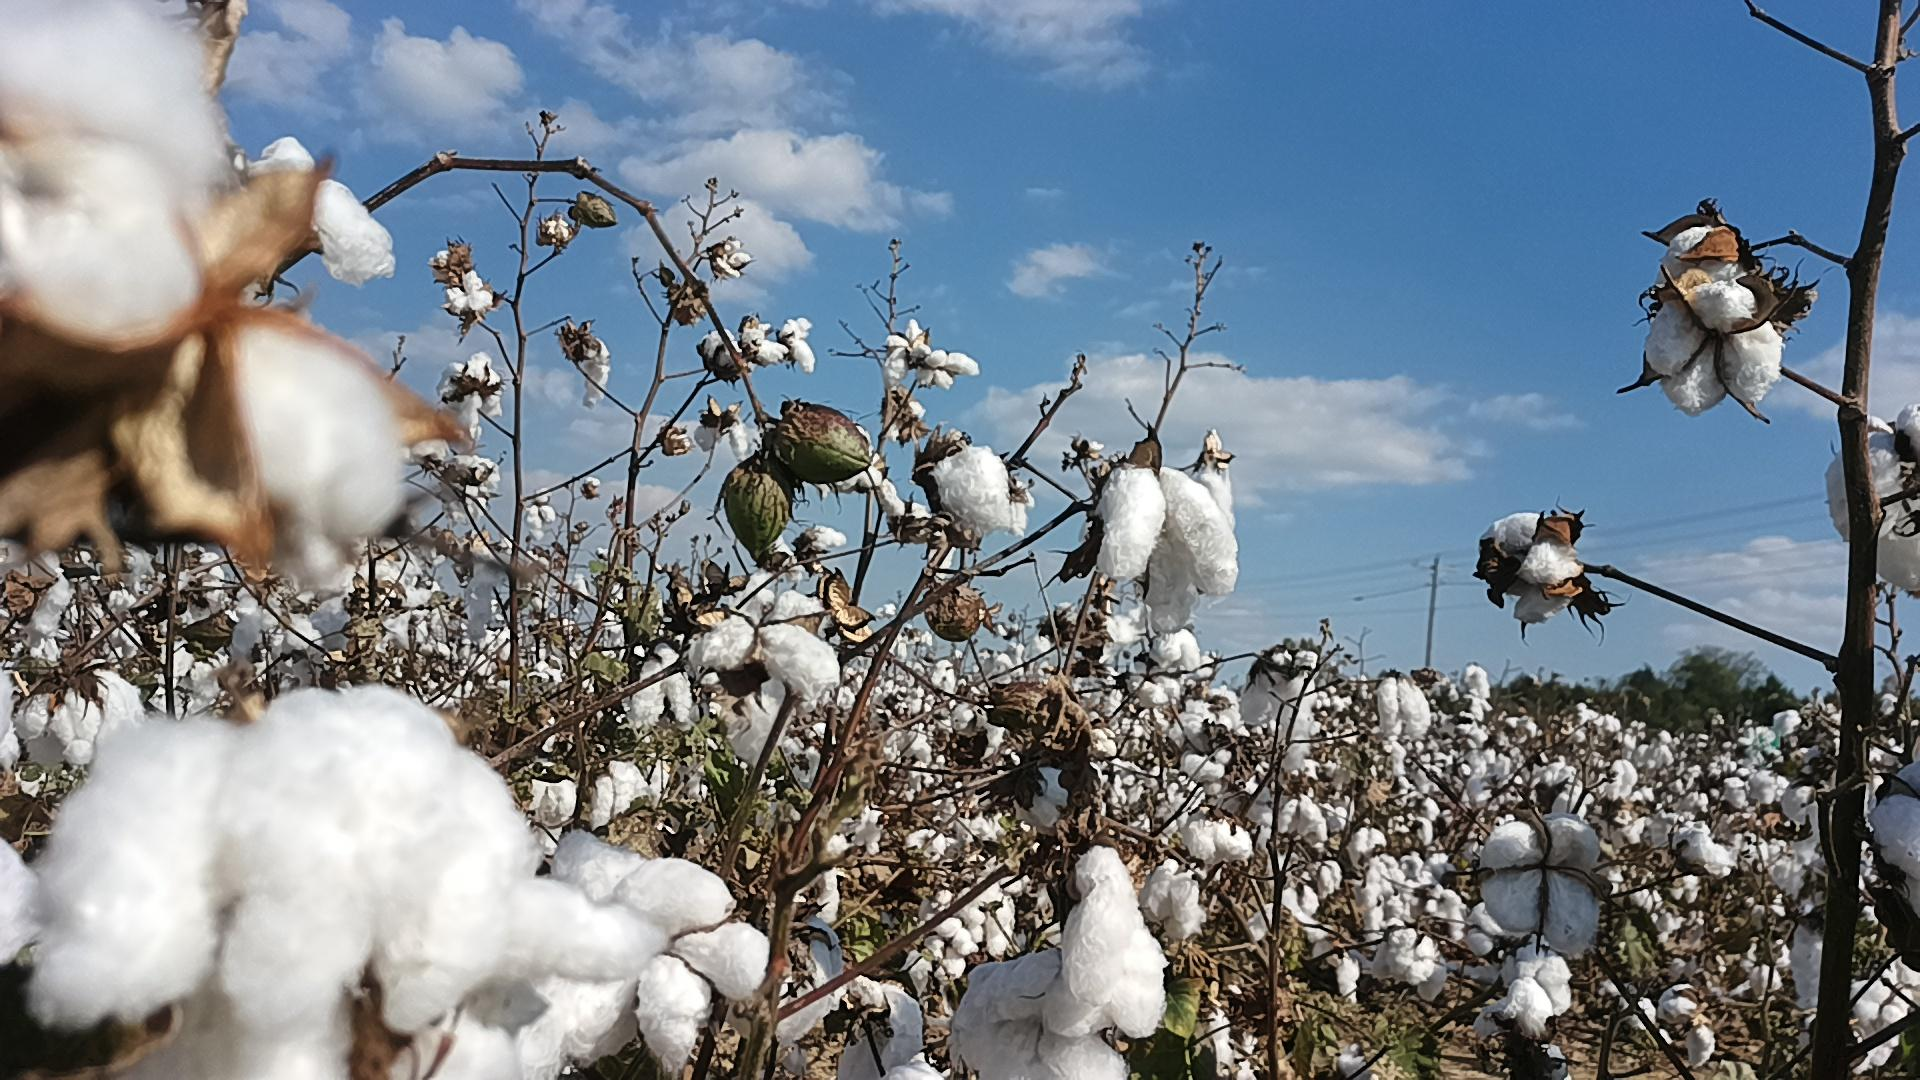cotton_ready: (0, 0, 410, 588), (28, 683, 546, 1080), (543, 825, 775, 1079), (1096, 460, 1240, 637), (951, 945, 1131, 1080), (240, 137, 398, 287), (1050, 843, 1163, 1044), (1642, 280, 1788, 415), (688, 583, 848, 705), (1474, 814, 1607, 955), (1828, 410, 1920, 599), (729, 920, 851, 1047), (20, 673, 148, 775), (833, 973, 956, 1080), (1484, 512, 1582, 625), (1869, 756, 1920, 943), (527, 756, 655, 831), (930, 446, 1018, 533), (1662, 218, 1749, 281)
